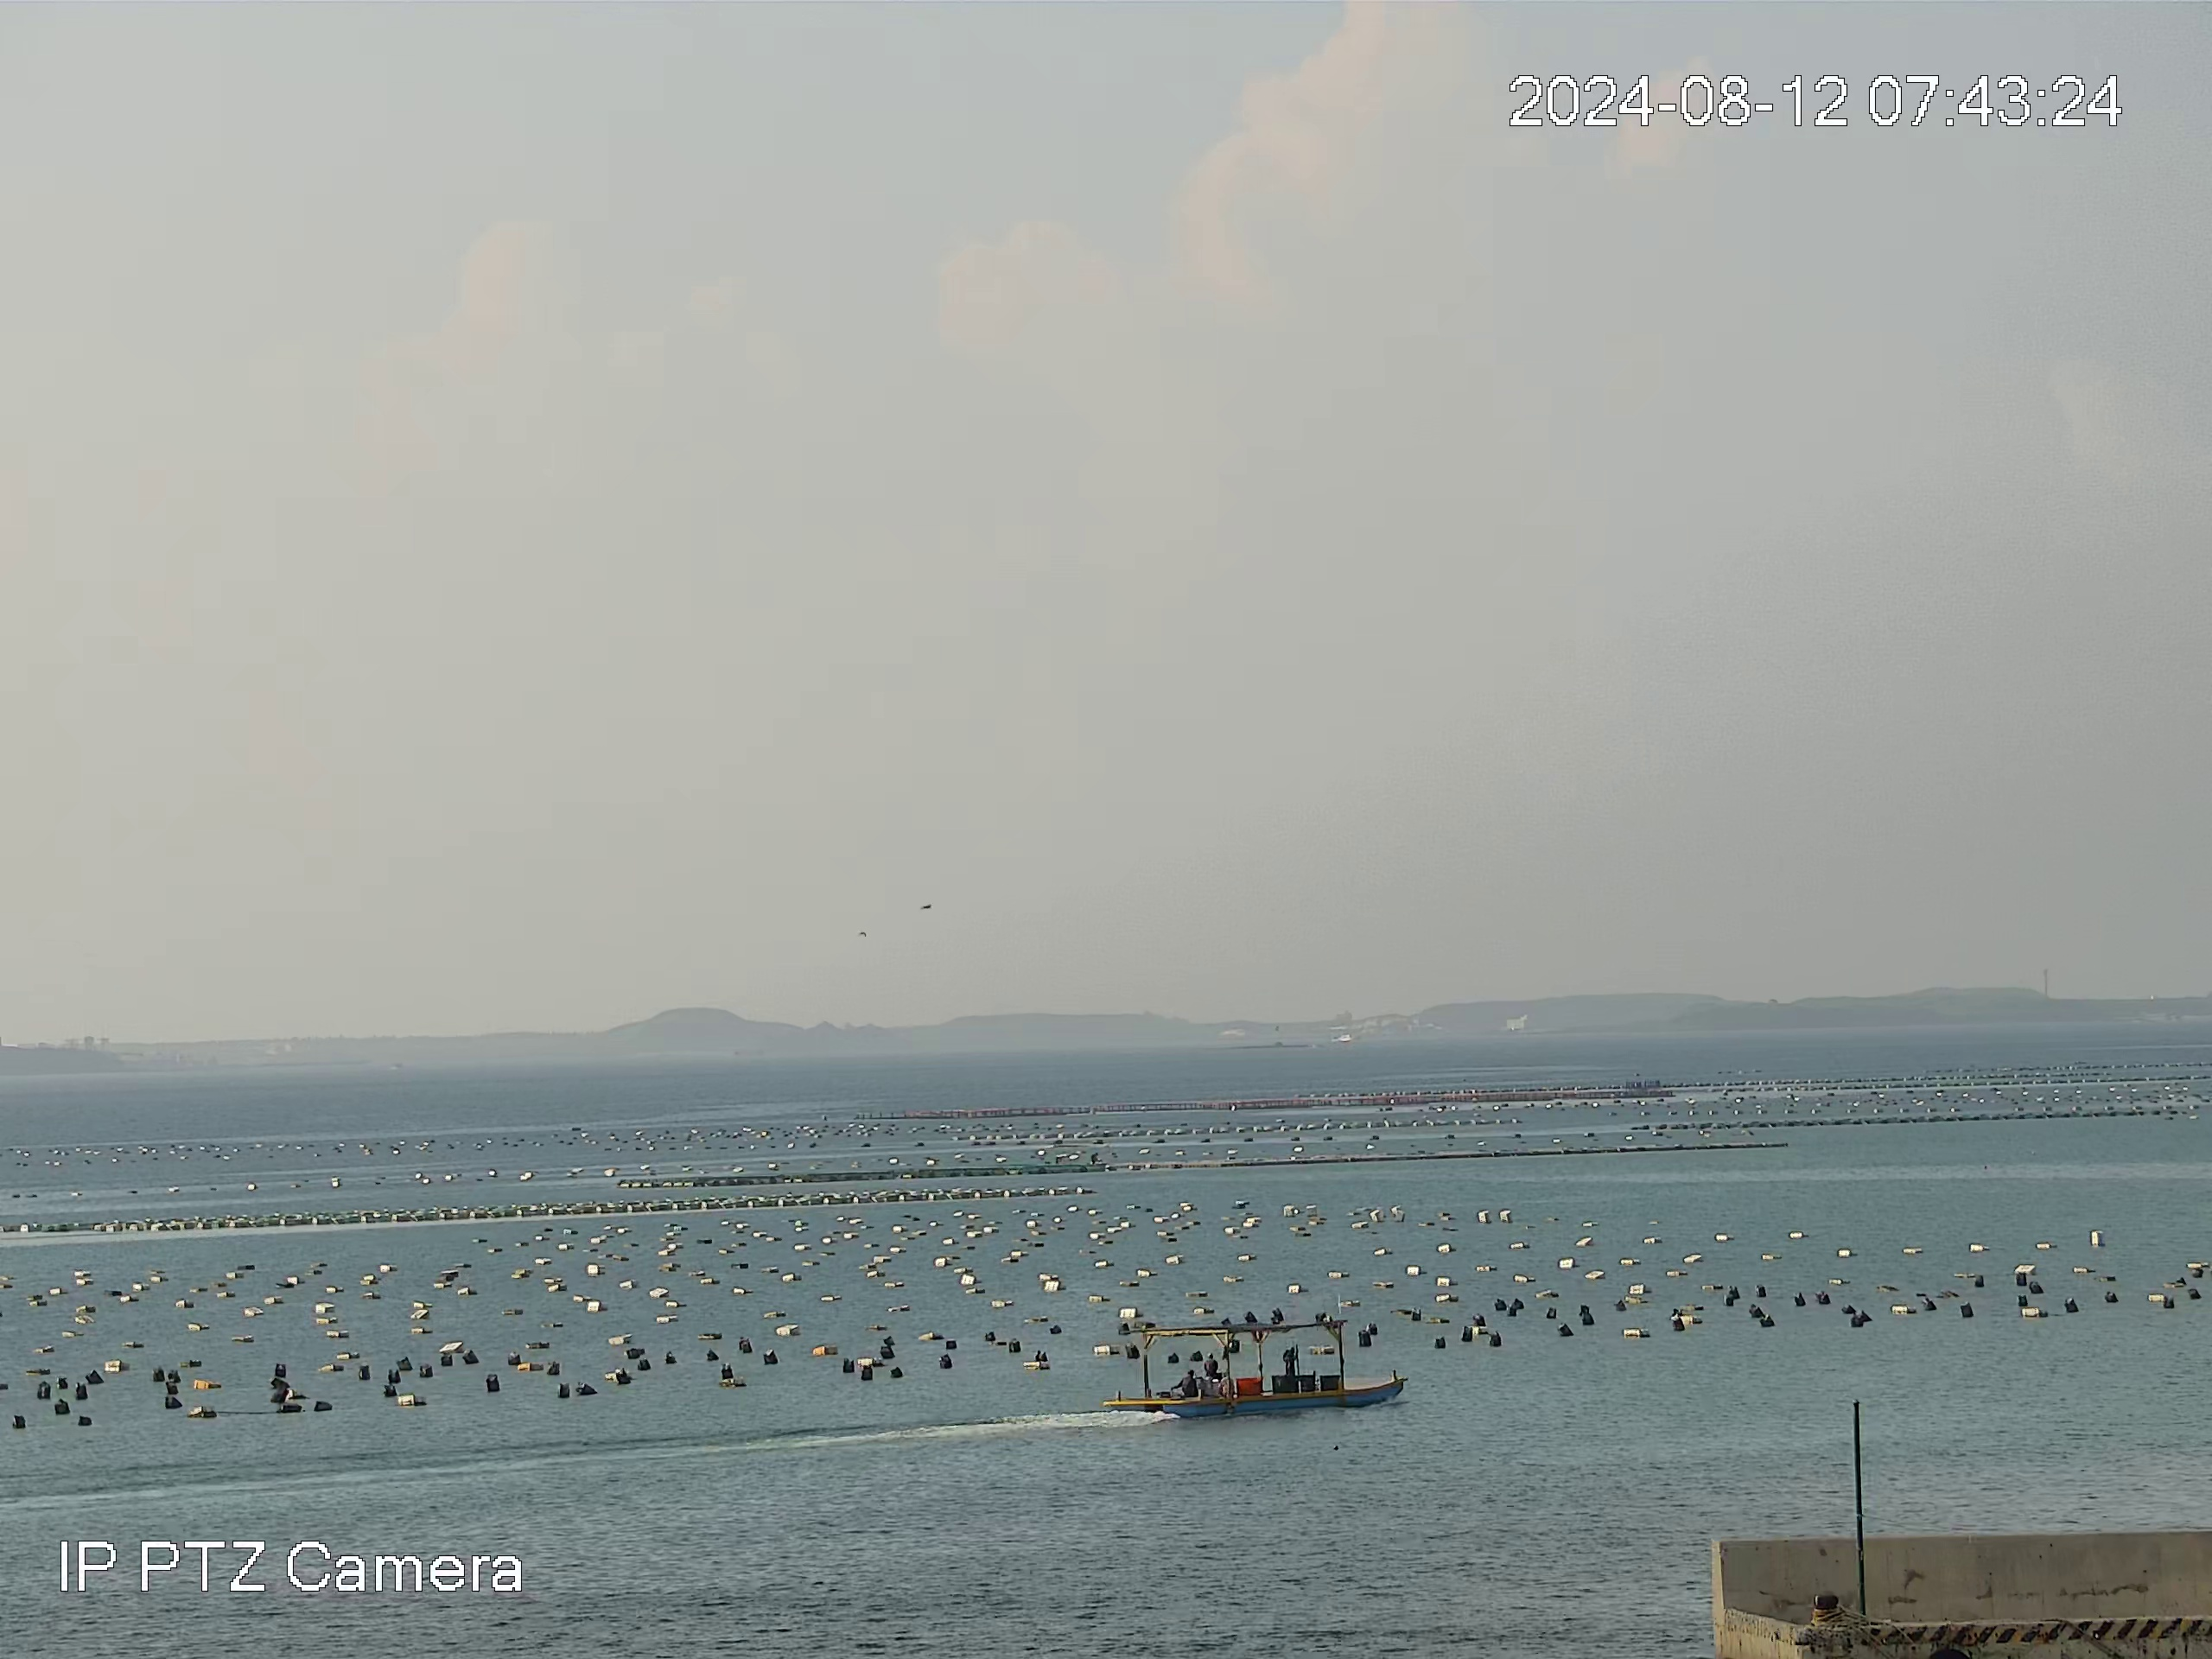boat: (1106, 1312, 1411, 1415)
